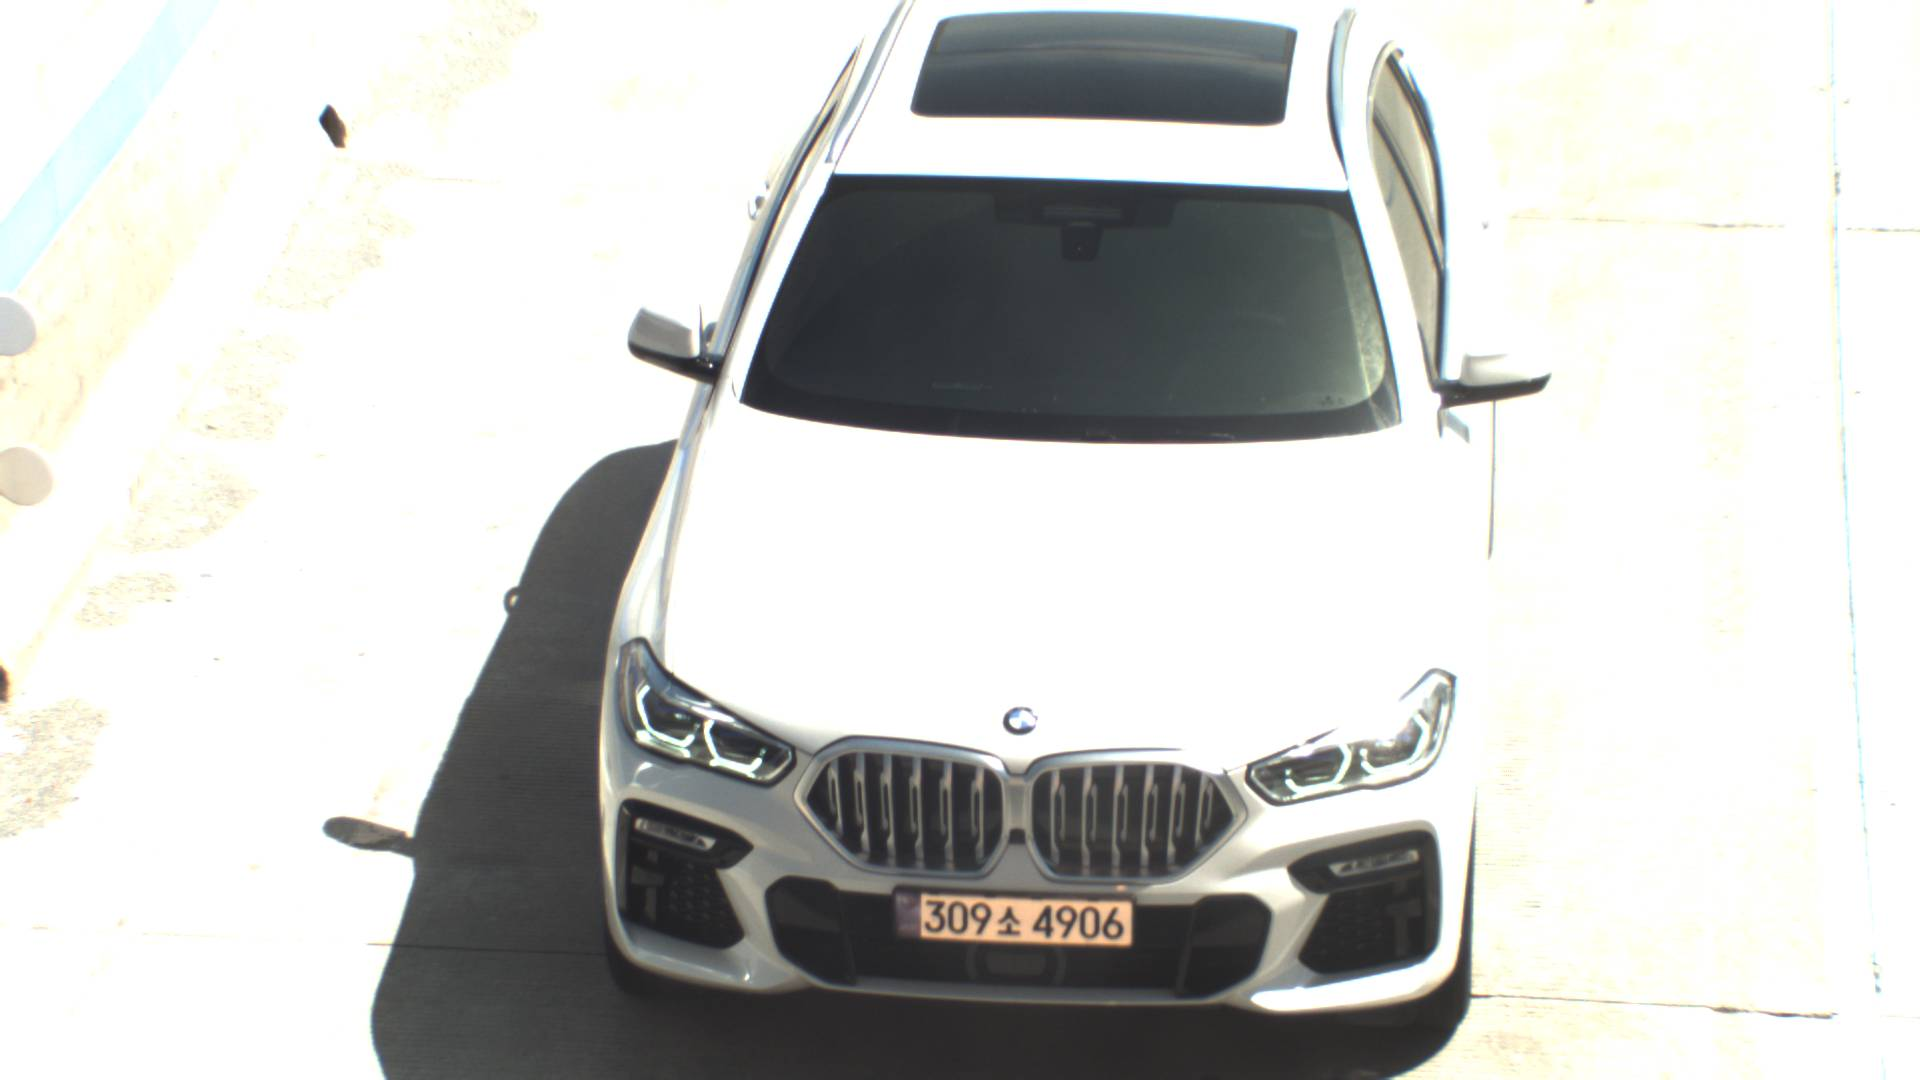car: (589, 1, 1555, 1025)
plate: (887, 885, 1139, 959)
